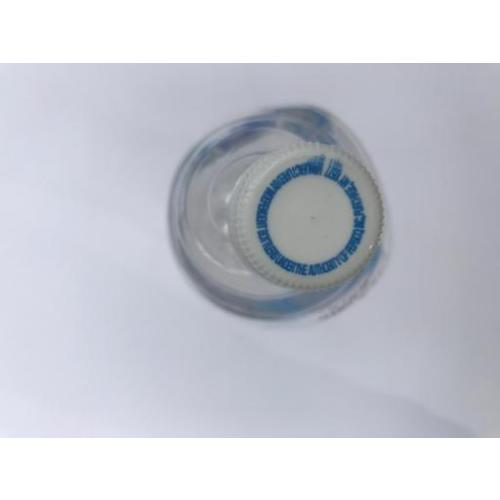plastic: (167, 102, 390, 327)
